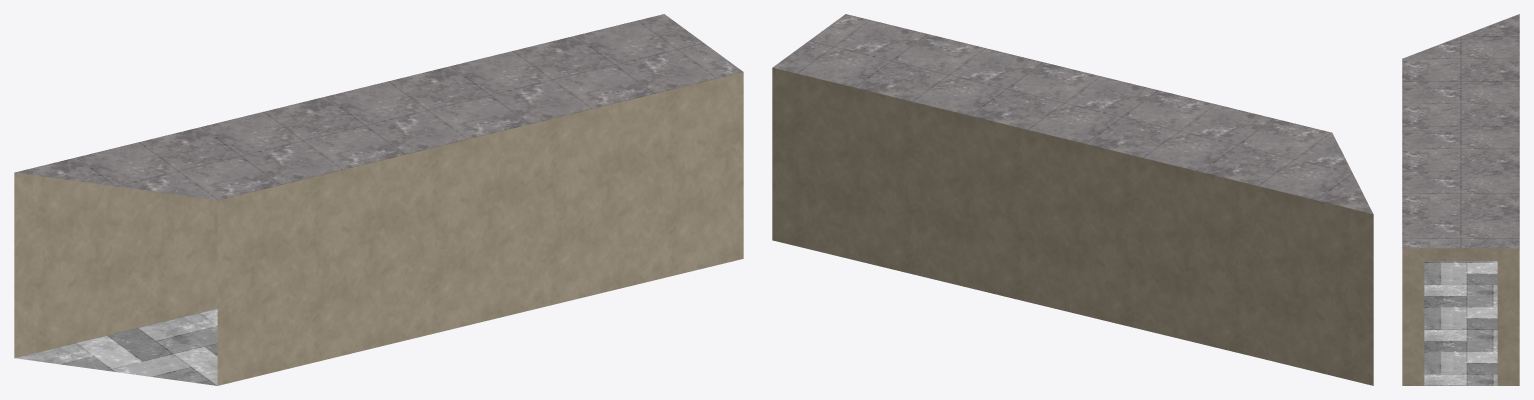
The model's file is stage-structure-back-corridor.glb.
The picture shows the model from 3 angles, left to right: view 1: azimuth 30°, elevation 25°; view 2: azimuth 150°, elevation 25°; view 3: azimuth 270°, elevation 25°; orthographic projection. The views are drawn at different scales.
Parts seen in each view (by area): view 1: Stage_Structure_Back_Corridor; view 2: Stage_Structure_Back_Corridor; view 3: Stage_Structure_Back_Corridor.
Boxes of the visible parts, bbox=[...] form: Stage_Structure_Back_Corridor: bbox=[14, 14, 743, 385]; Stage_Structure_Back_Corridor: bbox=[772, 14, 1373, 385]; Stage_Structure_Back_Corridor: bbox=[1402, 14, 1519, 385].
Bounding box in the file's own units: 14.59 × 4 × 3.08.
Materials: 3 (3 with a texture image).
